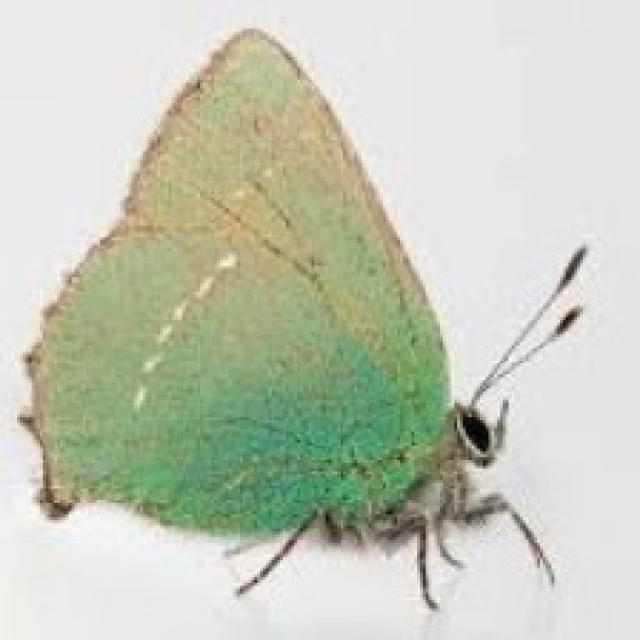butterfly: (14, 23, 592, 611)
